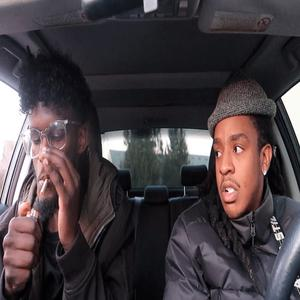cigarette: (38, 175, 49, 198)
